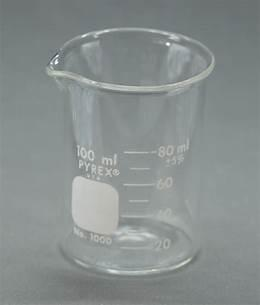Beaker: (45, 24, 213, 280)
